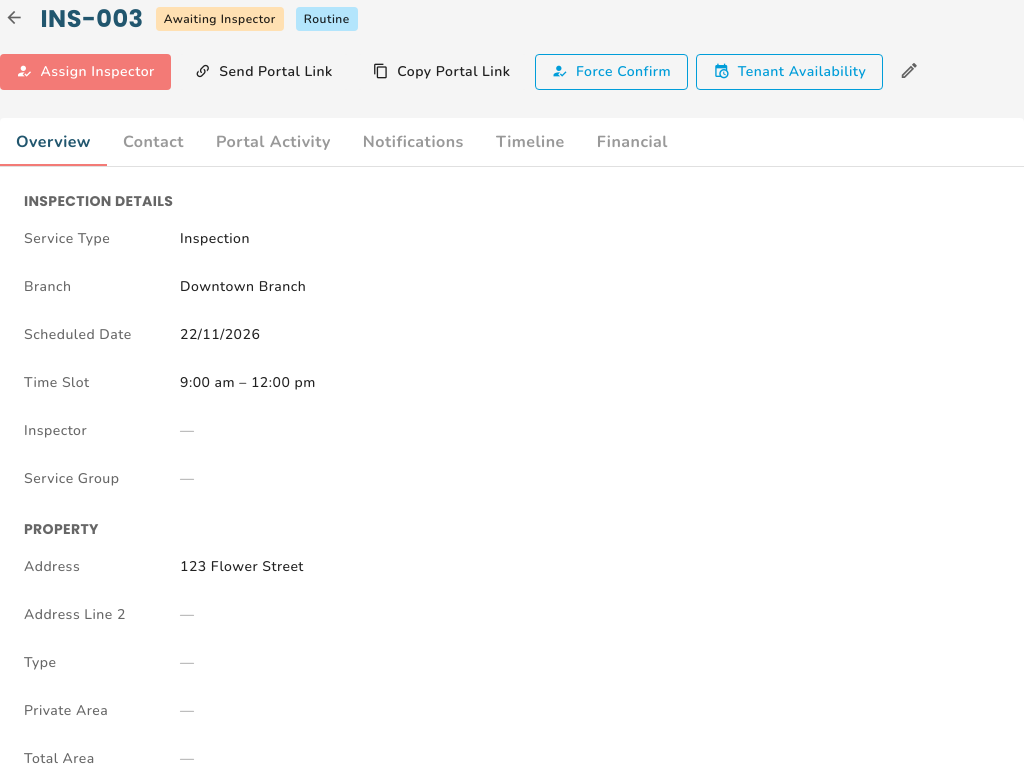
Test: AppointmentDetailPage — Copy Portal Link generate-only modal › generates with notify:false, copies the link and refetches on confirm
Click the button with test id "copy-portal-link-button".
click(442, 72)  # box [357,54,526,90]
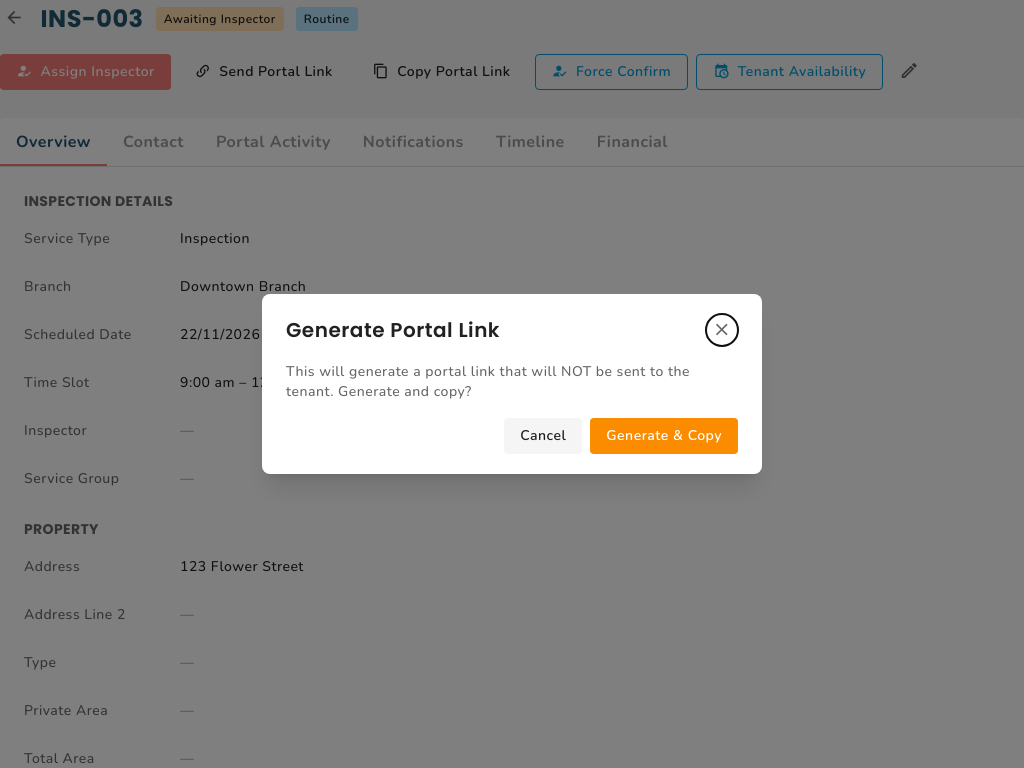
Result: the text "will NOT be sent to the tenant" is shown at [286,362,690,401]
Click the button "Generate & Copy".
click(664, 436)  # box [590,418,738,454]
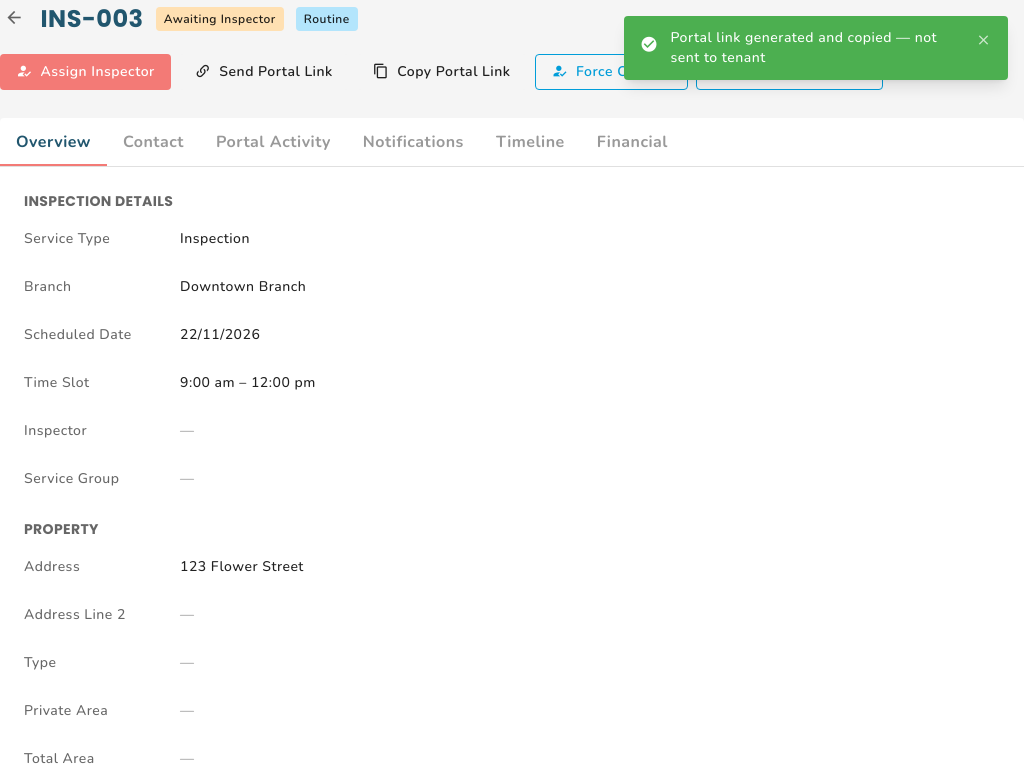
Result: the text "Portal link generated and copied — not sent to tenant" is shown at [670,28,956,68]
